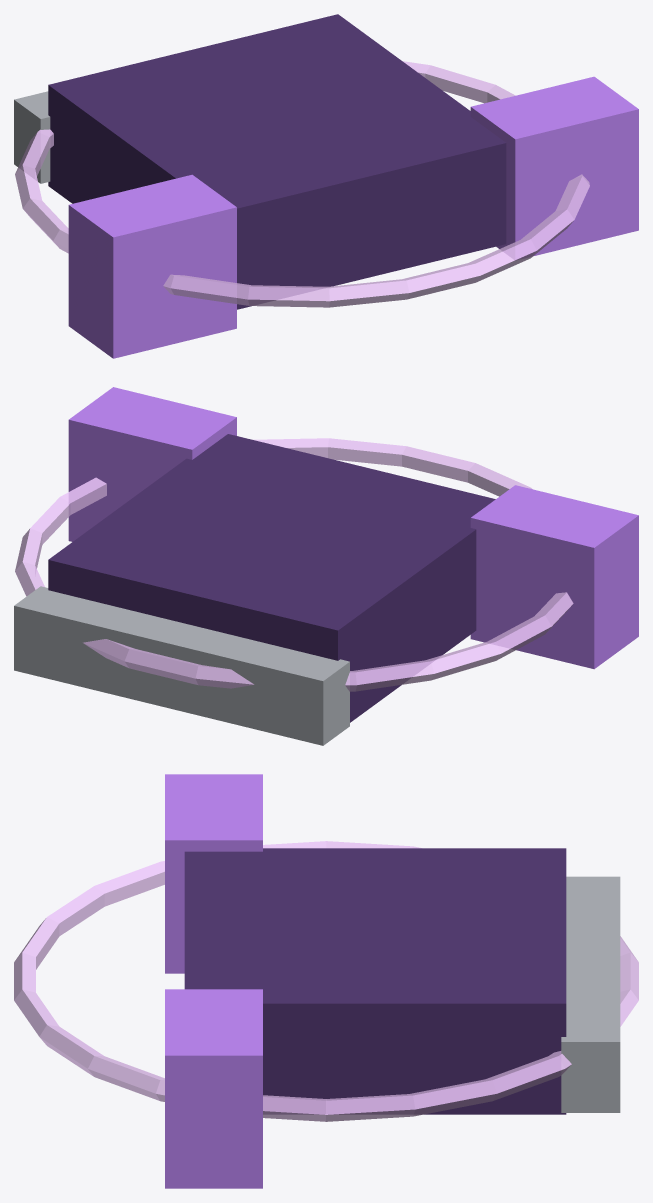
Rendered from 04_magic_armor_upgrade.glb.
3 views of the same model, one above another, from view 1: azimuth 30°, elevation 25°; view 2: azimuth 150°, elevation 25°; view 3: azimuth 270°, elevation 25° (orthographic). The views are drawn at different scales.
Visible parts, largest first — view 1: chest_plate, pauldron_l, pauldron_r, warding_aura, waist_guard; view 2: chest_plate, waist_guard, pauldron_l, warding_aura, pauldron_r; view 3: chest_plate, pauldron_r, warding_aura, waist_guard, pauldron_l.
Boxes of the visible parts, x1,y1,x2,y2 form: chest_plate: (48,14,506,309); pauldron_l: (68,174,236,358); pauldron_r: (470,76,638,259); warding_aura: (15,61,589,307); waist_guard: (14,91,50,183); chest_plate: (48,434,495,722); waist_guard: (14,586,349,745); pauldron_l: (470,485,638,669); warding_aura: (15,438,573,691); pauldron_r: (68,387,236,541); chest_plate: (184,848,566,1114); pauldron_r: (165,989,262,1188); warding_aura: (14,841,638,1121); waist_guard: (561,876,620,1112); pauldron_l: (165,774,262,973).
Size of the model in its own units: 1.36 by 0.38 by 1.28.
